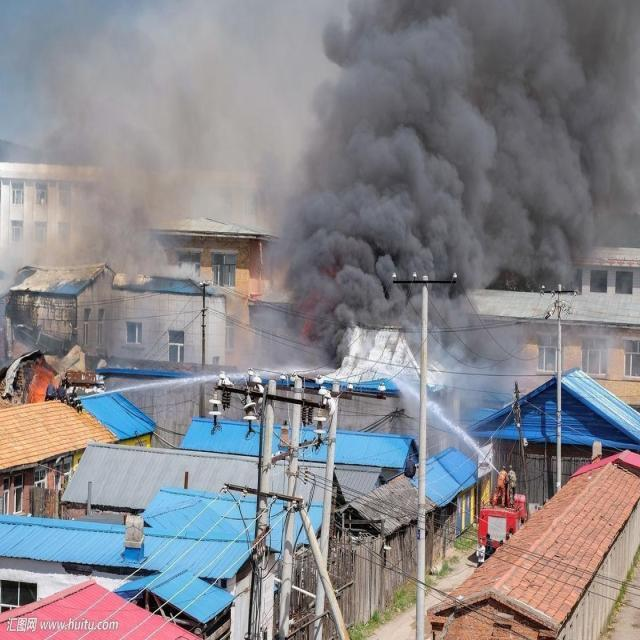Fire: (27, 358, 56, 404)
Smoke: (0, 1, 640, 457)
